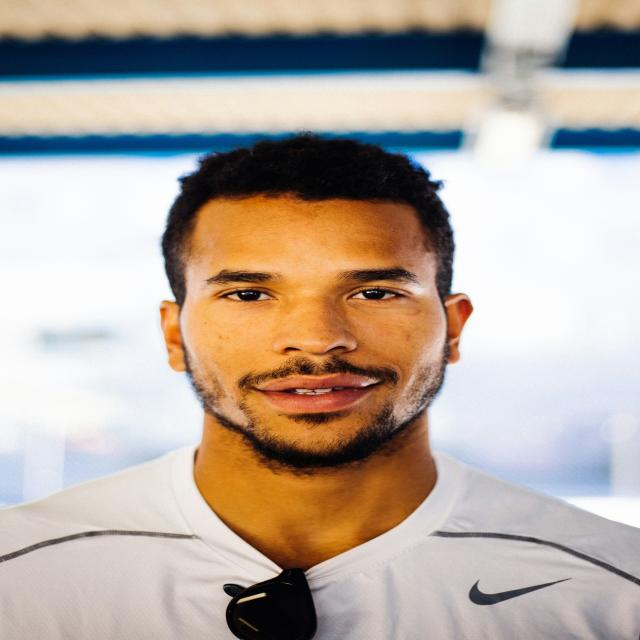human: (15, 136, 632, 640)
